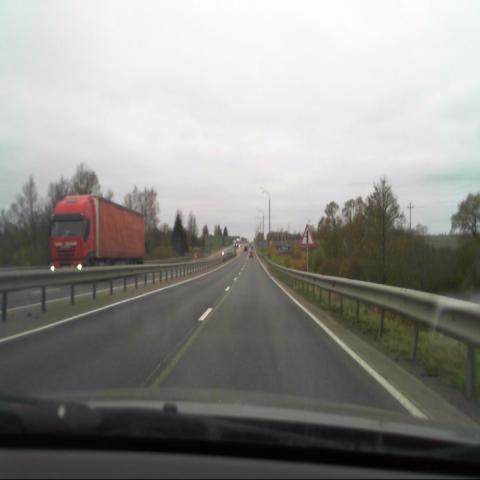2_3_3: (301, 223, 314, 247)
